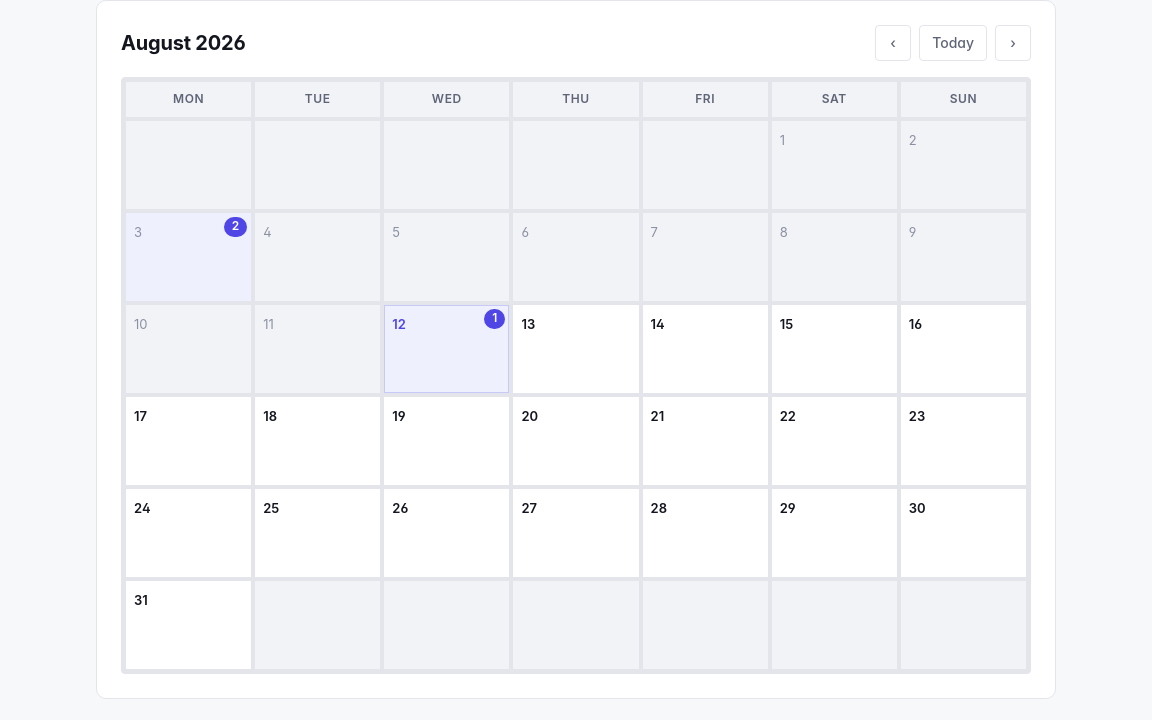
Test: Calendar page › never leaves one day notes under another day heading
The width and height of the screenshot is (1152, 720).
Click the element with class "today" at (447, 349), box [384,305,509,393]
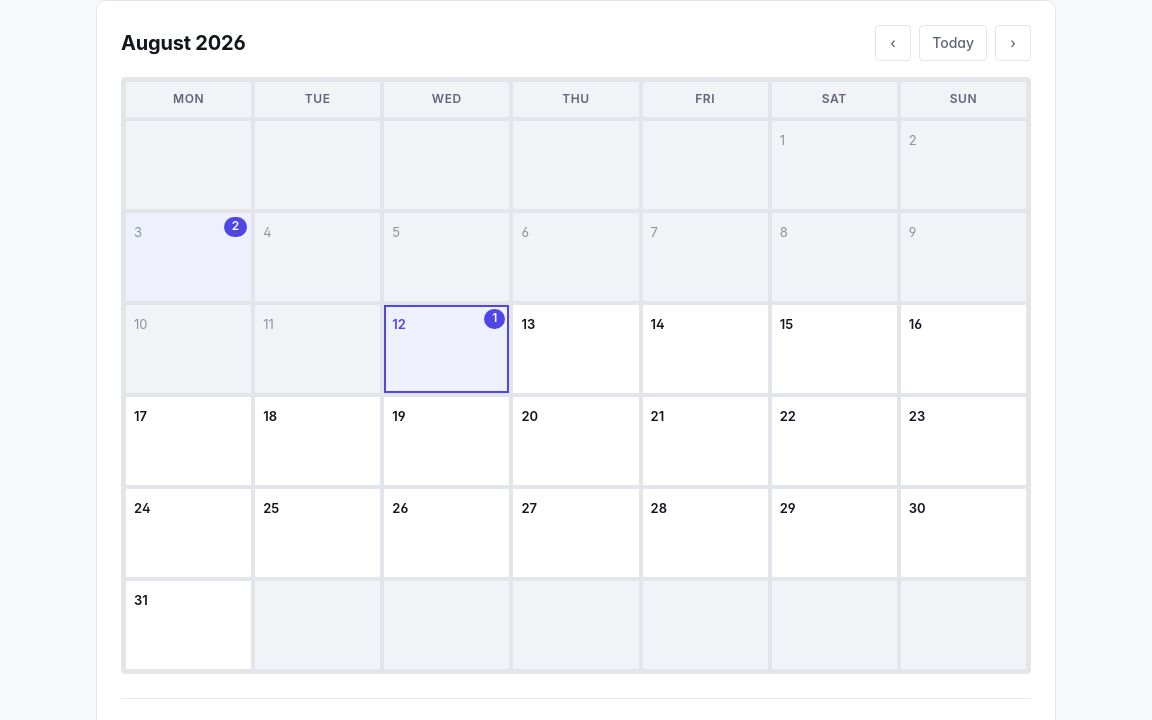
Click the element with class "cal-cell" showing "3 2" at (189, 257), box [126,213,251,301]
(page scrolled)
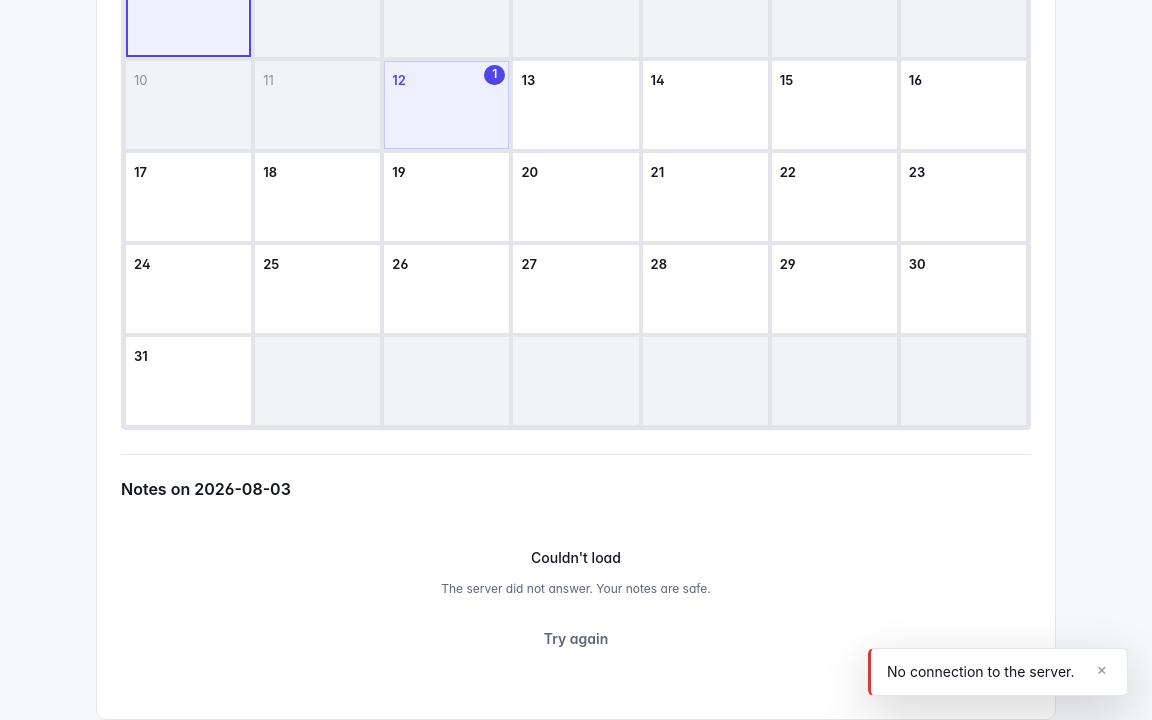
Expected: the text "Couldn't load" is shown, [531,547,621,568]
Expected: the heading "Notes on 2026-08-03" is shown, [121,479,291,499]
Click the button "Try again" at (576, 639), box [527,615,625,663]
(page scrolled)
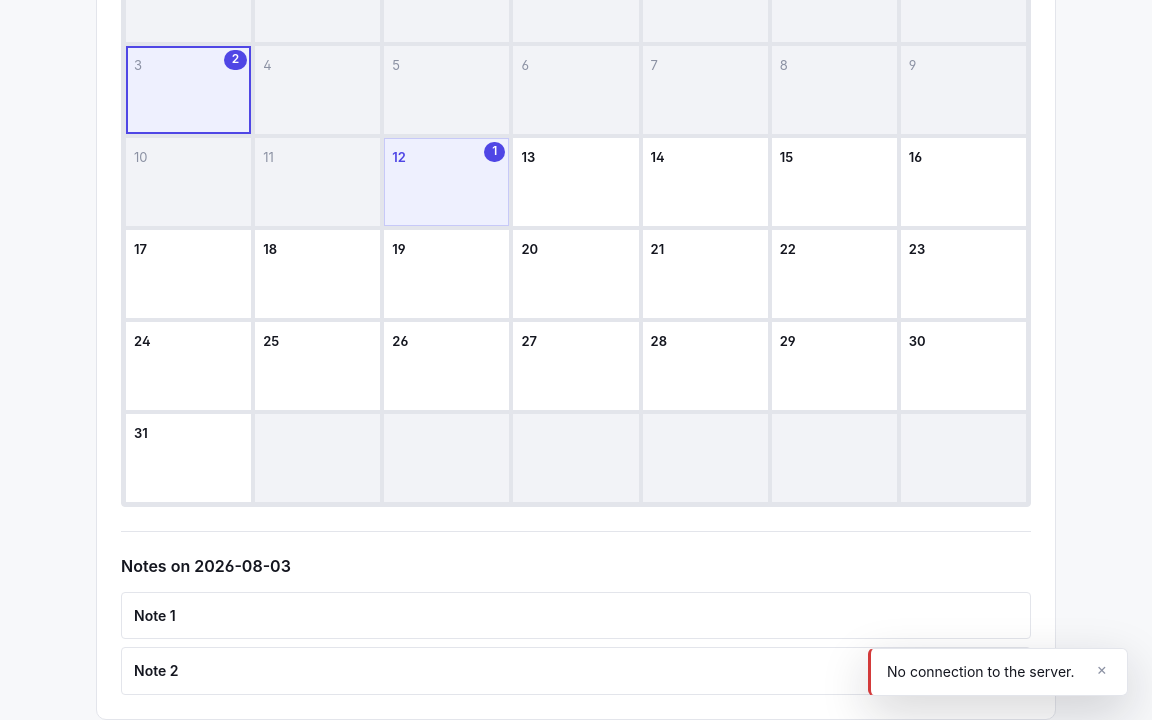
Expected: the text "Note 1" is shown, [134,607,176,624]
Expected: the text "Note 2" is shown, [134,662,178,679]
